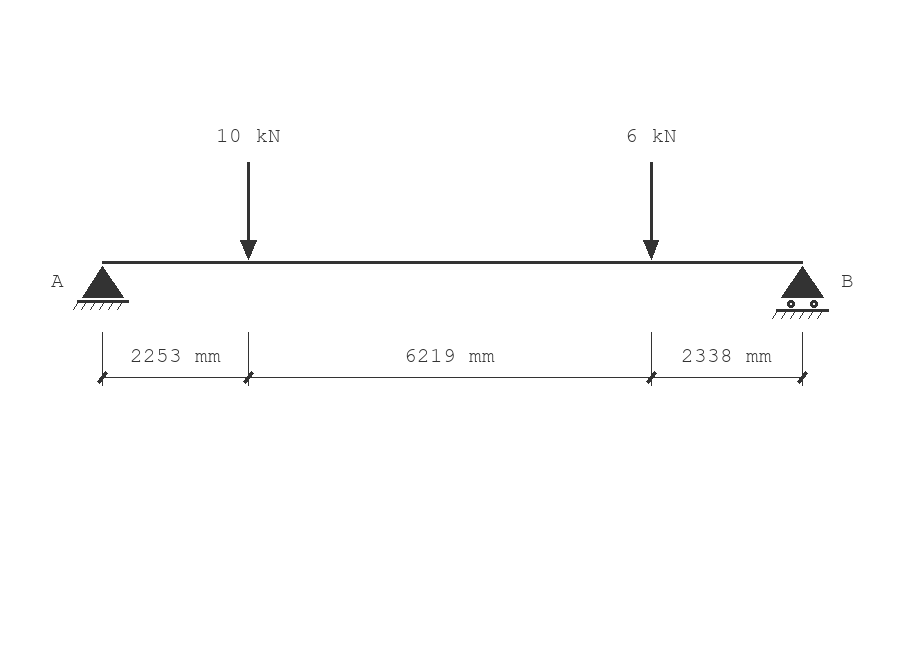pin_support: (73, 266, 129, 310)
point_load: (240, 162, 257, 260), (643, 162, 659, 260)
roller_support: (772, 266, 829, 319)
